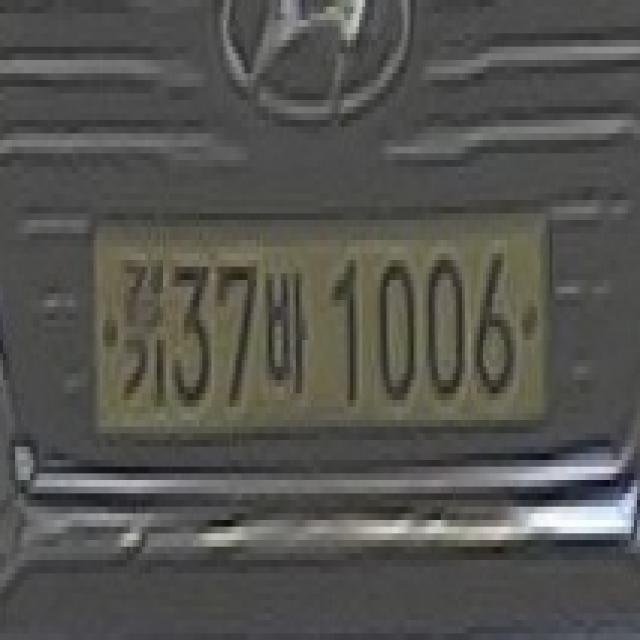plat: (89, 210, 554, 437)
